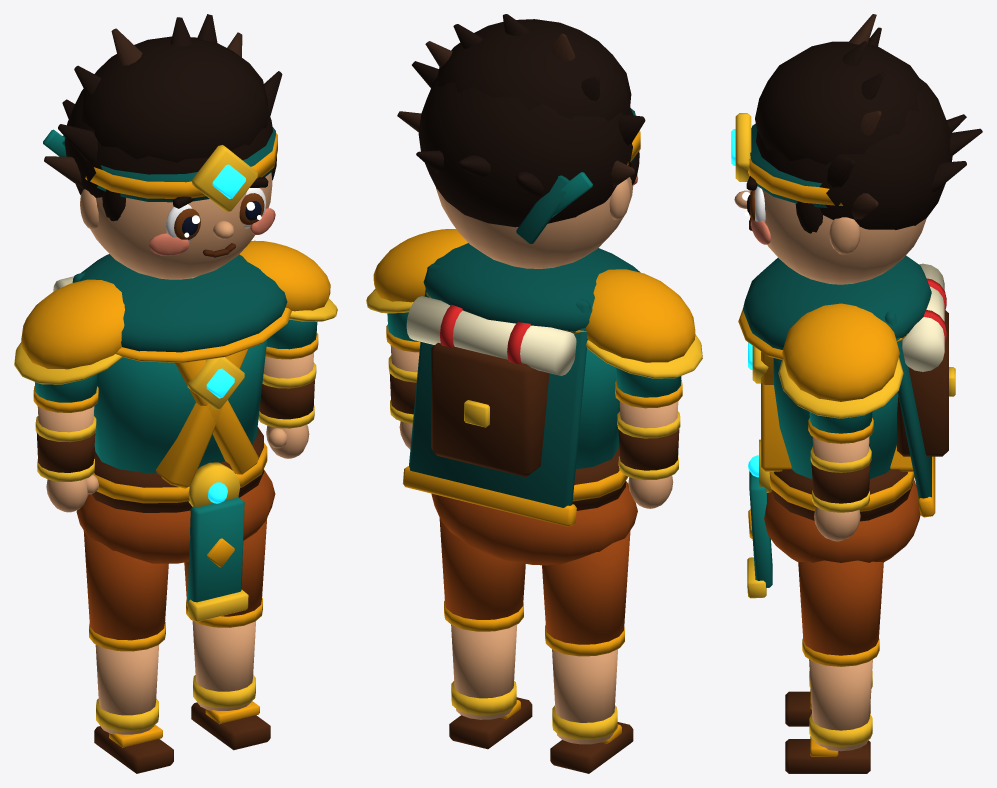
Rendered from khmer_student_hero.glb.
3 renders of one model, left to right at view 1: azimuth 30°, elevation 25°; view 2: azimuth 150°, elevation 25°; view 3: azimuth 270°, elevation 25°, orthographic. The views are drawn at different scales.
Parts seen in each view (by area): view 1: HeroChestMesh, HeroHeadMesh, HeroWaistMesh, HeroLeftLegMesh, HeroRightLegMesh, HeroLeftArmMesh, HeroRightArmMesh; view 2: HeroChestMesh, HeroHeadMesh, HeroLeftLegMesh, HeroRightLegMesh, HeroCapeMesh, HeroWaistMesh, HeroLeftArmMesh, HeroRightArmMesh; view 3: HeroHeadMesh, HeroChestMesh, HeroRightLegMesh, HeroWaistMesh, HeroRightArmMesh, HeroCapeMesh, HeroLeftLegMesh.
Part boxes in pixels (x1,y1,x2,y2): HeroChestMesh: (14,240,337,488); HeroHeadMesh: (43,14,282,279); HeroWaistMesh: (76,427,275,621); HeroLeftLegMesh: (83,530,173,773); HeroRightLegMesh: (184,518,270,750); HeroLeftArmMesh: (33,374,98,512); HeroRightArmMesh: (258,320,318,458); HeroChestMesh: (366,229,702,477); HeroHeadMesh: (397,14,645,268); HeroLeftLegMesh: (542,530,633,773); HeroRightLegMesh: (439,518,532,749); HeroCapeMesh: (402,263,590,526); HeroWaistMesh: (431,443,637,565); HeroLeftArmMesh: (615,367,682,508); HeroRightArmMesh: (386,312,420,449); HeroHeadMesh: (731,14,982,284); HeroChestMesh: (738,255,955,478); HeroRightLegMesh: (785,560,883,773); HeroWaistMesh: (747,439,920,598); HeroRightArmMesh: (808,411,873,541); HeroCapeMesh: (884,310,935,517); HeroLeftLegMesh: (785,671,872,726).
Bounding box in the file's own units: 0.952 × 2.1 × 0.6757.
